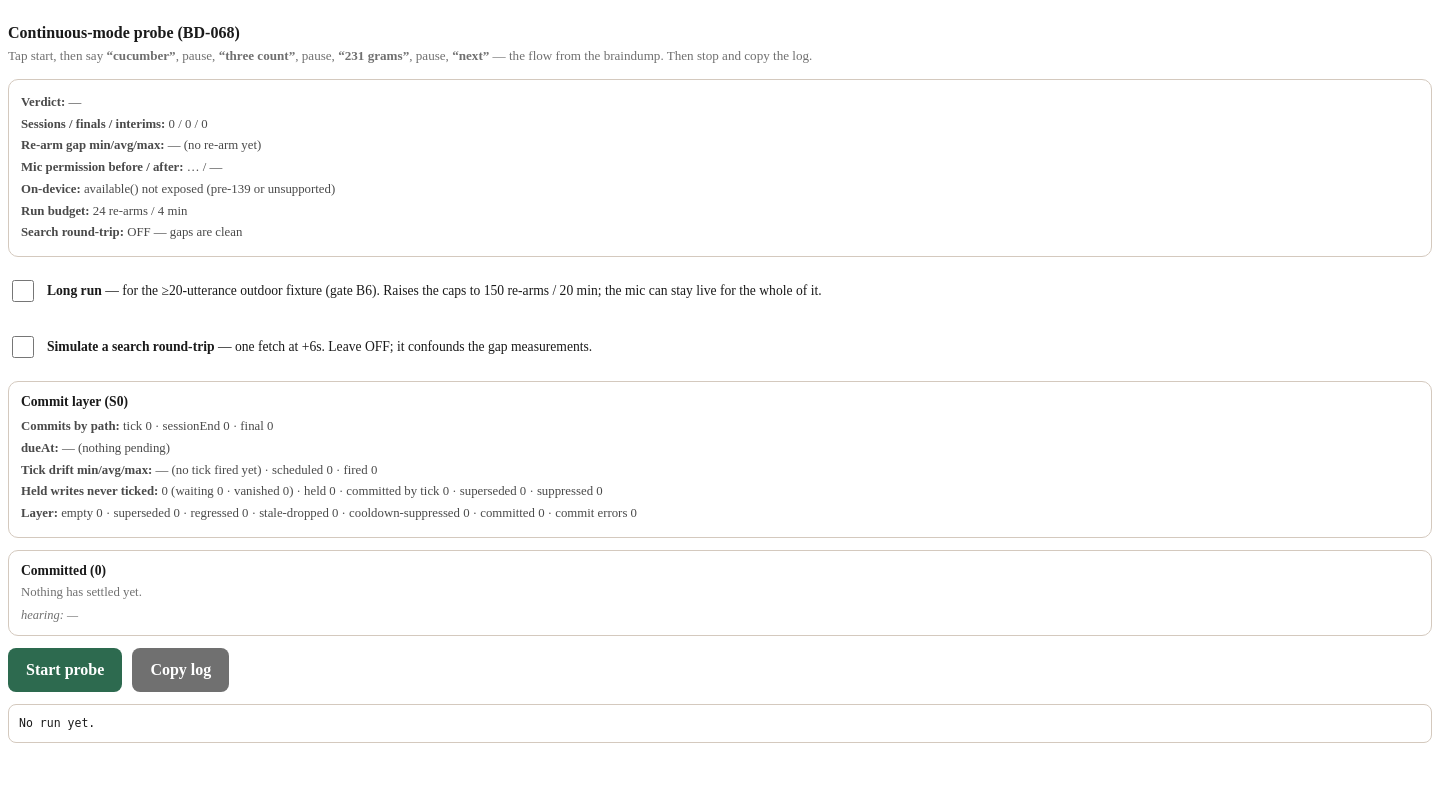
Test: ContinuousVoiceProbe — S0 debounce host › a prefix and its revision commit ONCE, as the longer utterance
The image size is (1440, 809).
Click the button "Start probe" at (65, 670), box [8,648,122,692]
Wait 195 ms
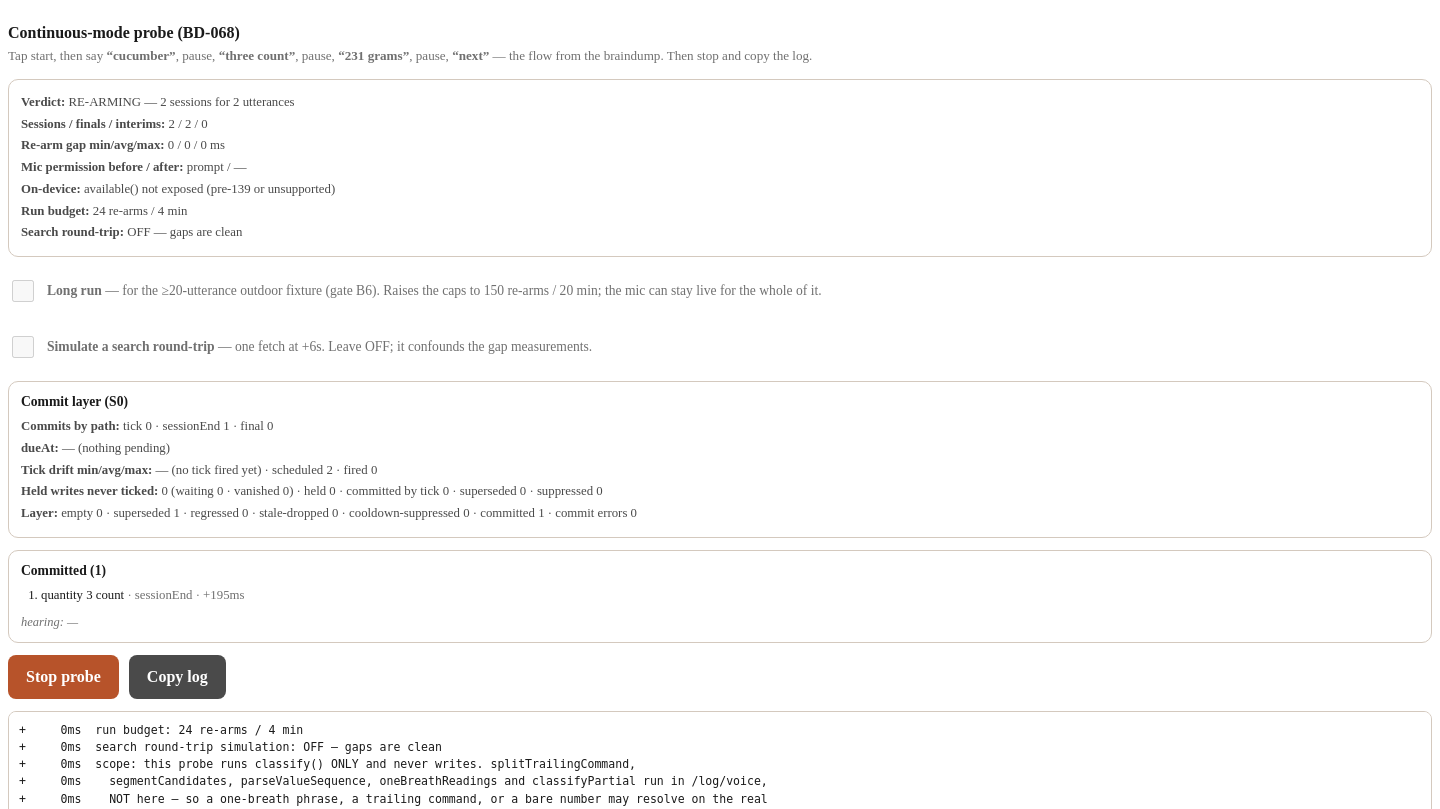
Now the list item with test id "voice-commit-row" shows "quantity 3 count", box [41,588,124,602]
Now the element with test id "voice-commit-paths" shows "sessionEnd 1", box [21,419,273,433]
Now the element with test id "voice-debounce-stats" shows "superseded 1", box [21,506,637,520]
